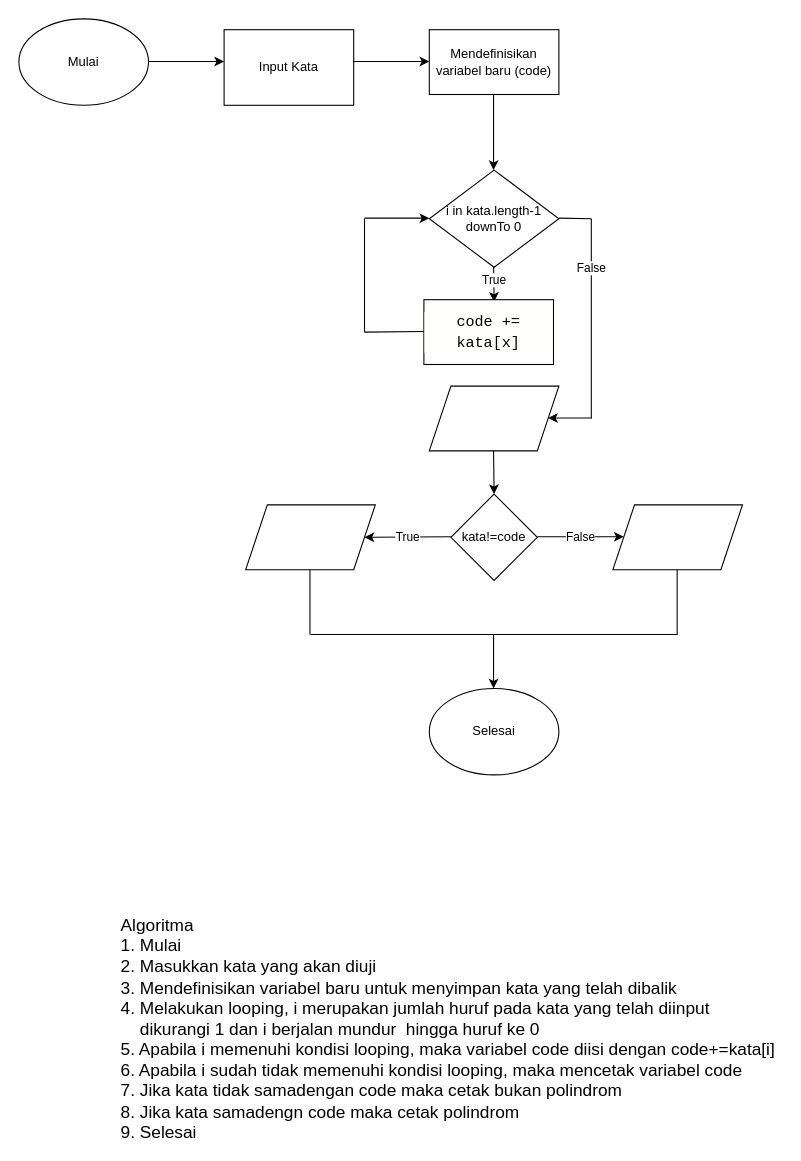
Image size: 801x1161. Some labels were removed from this diagram. The box of each missing label's shape, as (x1, y1, x2, y2) in pixels:
Bukan Polindrom: (245, 504, 375, 570)
Polindrom: (612, 504, 742, 570)
Print code: (428, 385, 559, 451)
